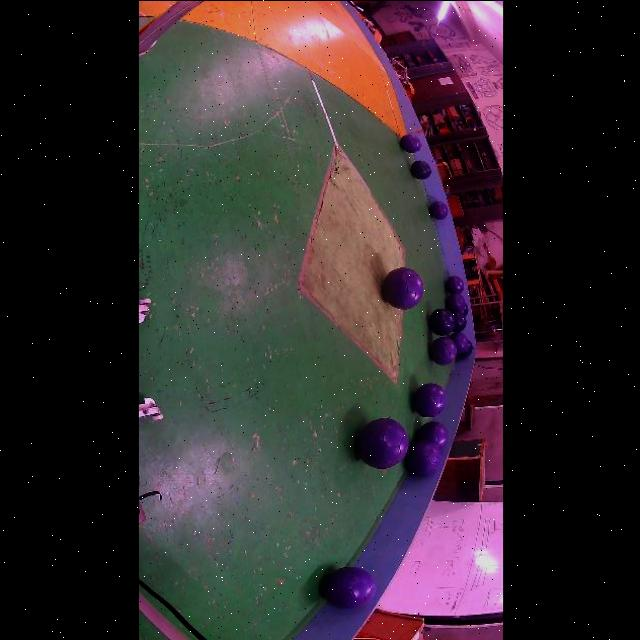B: (429, 308, 455, 334), (411, 160, 431, 179), (453, 310, 467, 332), (458, 341, 473, 357), (463, 303, 469, 315)
P: (356, 417, 408, 467), (322, 566, 375, 608), (382, 266, 424, 309), (406, 439, 441, 475), (412, 383, 446, 417), (416, 421, 449, 448), (430, 336, 456, 365), (400, 133, 421, 152), (450, 332, 469, 353), (429, 200, 448, 219), (445, 275, 464, 293), (446, 293, 465, 310)
